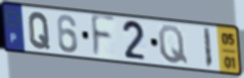2: (121, 17, 151, 65)
6: (56, 13, 79, 54)
F: (89, 13, 117, 60)
I: (202, 27, 214, 71)
Q: (156, 24, 190, 66), (27, 11, 51, 51)
